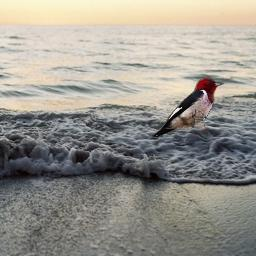Woodpecker: (148, 77, 227, 137)
